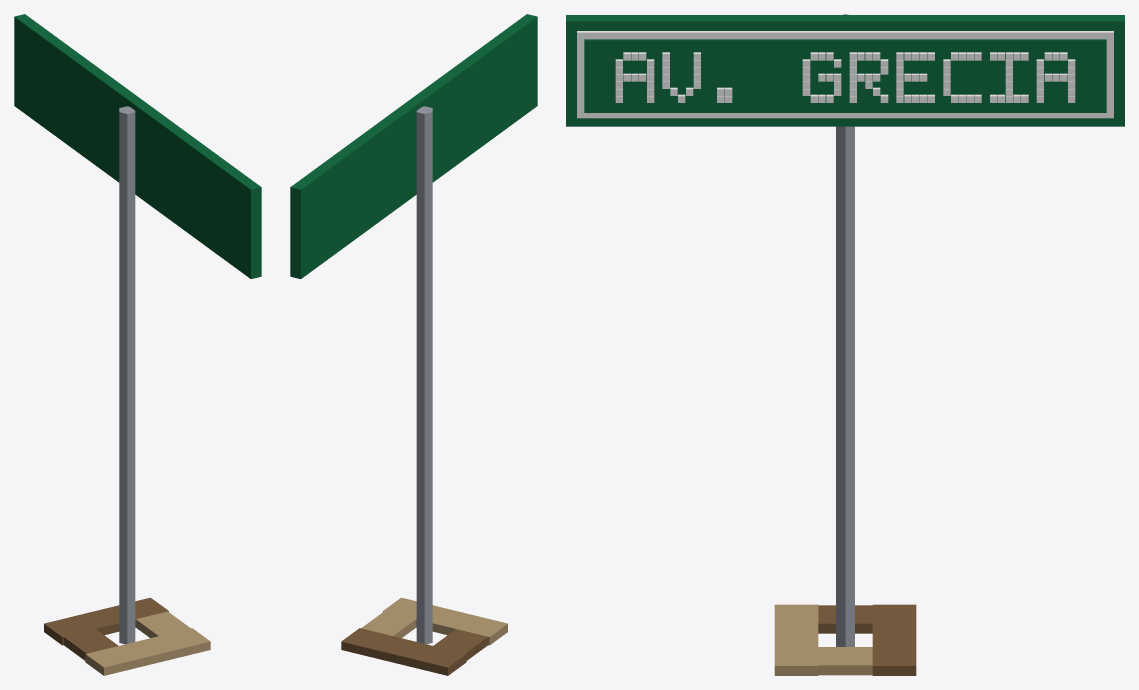
File: letrero_calle_grecia.obj
The picture shows the model from 3 angles, left to right: view 1: azimuth 30°, elevation 25°; view 2: azimuth 150°, elevation 25°; view 3: azimuth 270°, elevation 25°; orthographic projection. The views are drawn at different scales.
Visible parts, largest first — view 1: letrero_calle_grecia; view 2: letrero_calle_grecia; view 3: letrero_calle_grecia.
Part boxes in pixels (<box>): letrero_calle_grecia: <box>14,14,261,675</box>; letrero_calle_grecia: <box>290,14,537,675</box>; letrero_calle_grecia: <box>566,14,1124,675</box>.
Size of the model in its own units: 0.8 by 3.84 by 3.07.
